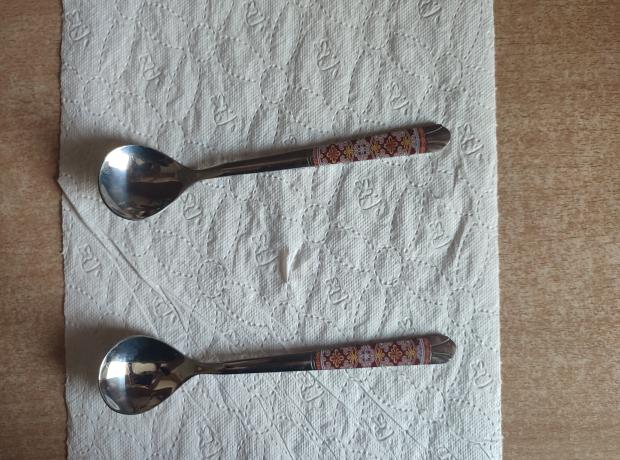metal: (96, 120, 452, 222), (97, 334, 456, 414)
